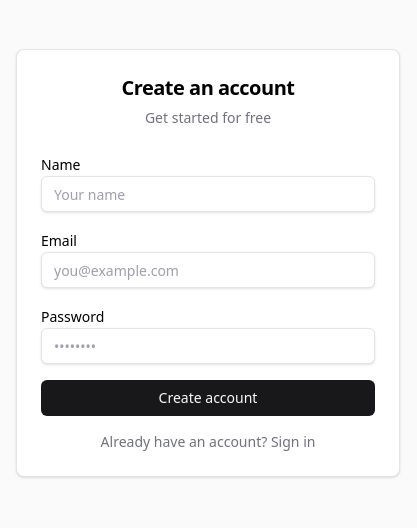
Scenario: SignUpPage › shows validation errors for empty fields
The width and height of the screenshot is (417, 528).
Click the button "Create account".
click(208, 398)  # box 41,380 -> 375,416
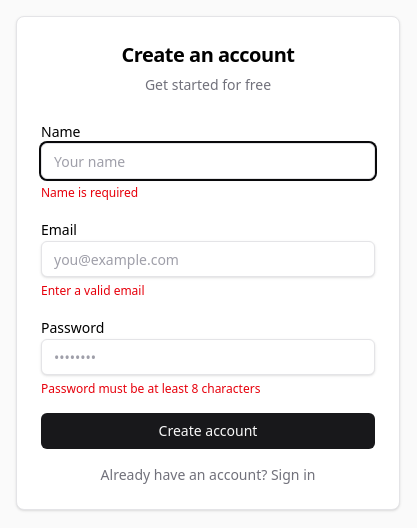
Expected: the text "Name is required" is shown, 41,184 -> 138,201
